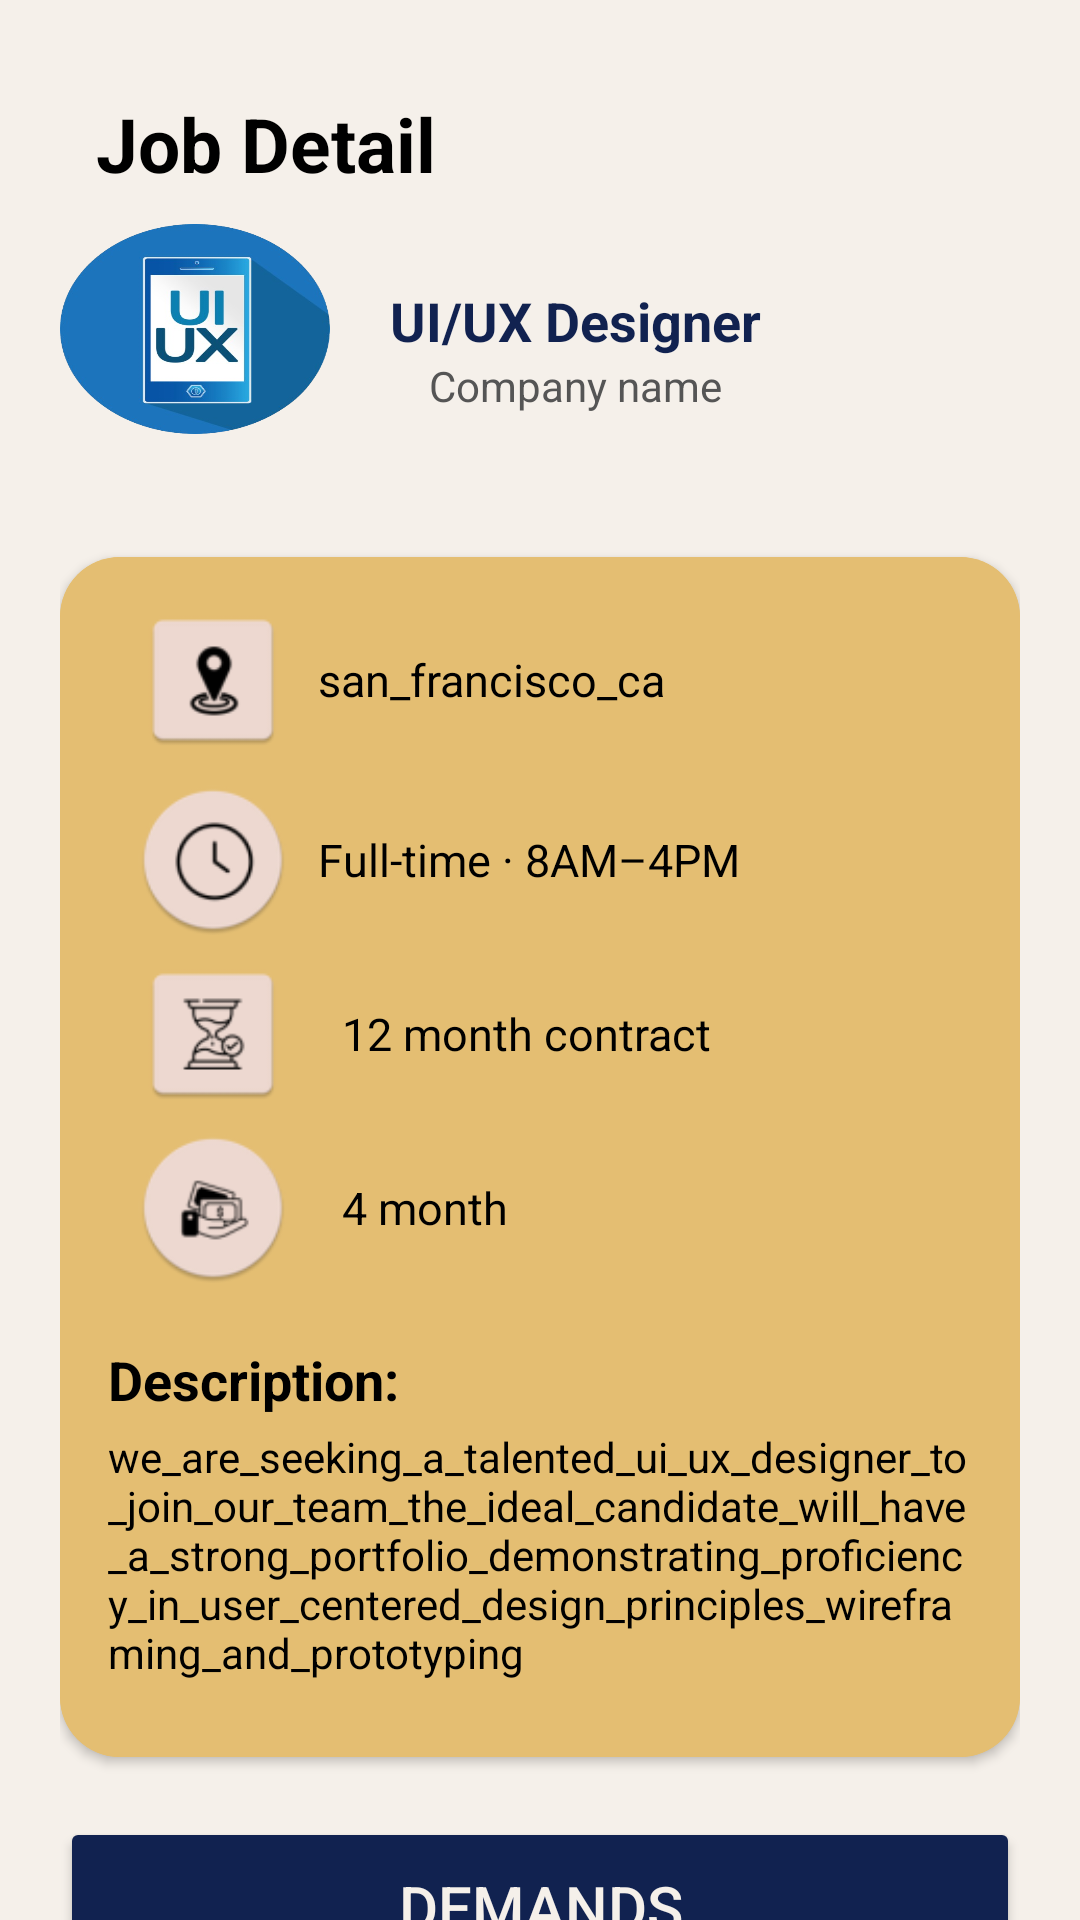

Screen size 1080 × 1920. Icon name, then its box in pixels as detection(x1, y1, x2, y2):
duration: detection(153, 973, 273, 1097)
locationn: detection(153, 619, 273, 743)
payment round: detection(144, 1139, 282, 1280)
time round: detection(144, 791, 282, 932)
